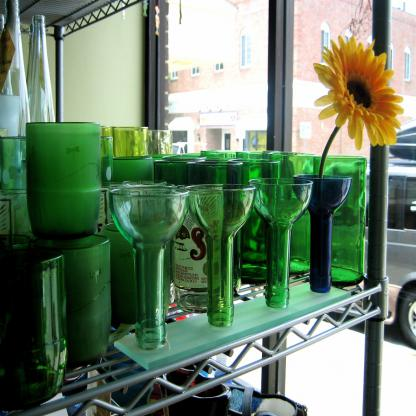vase: (0, 0, 367, 412)
